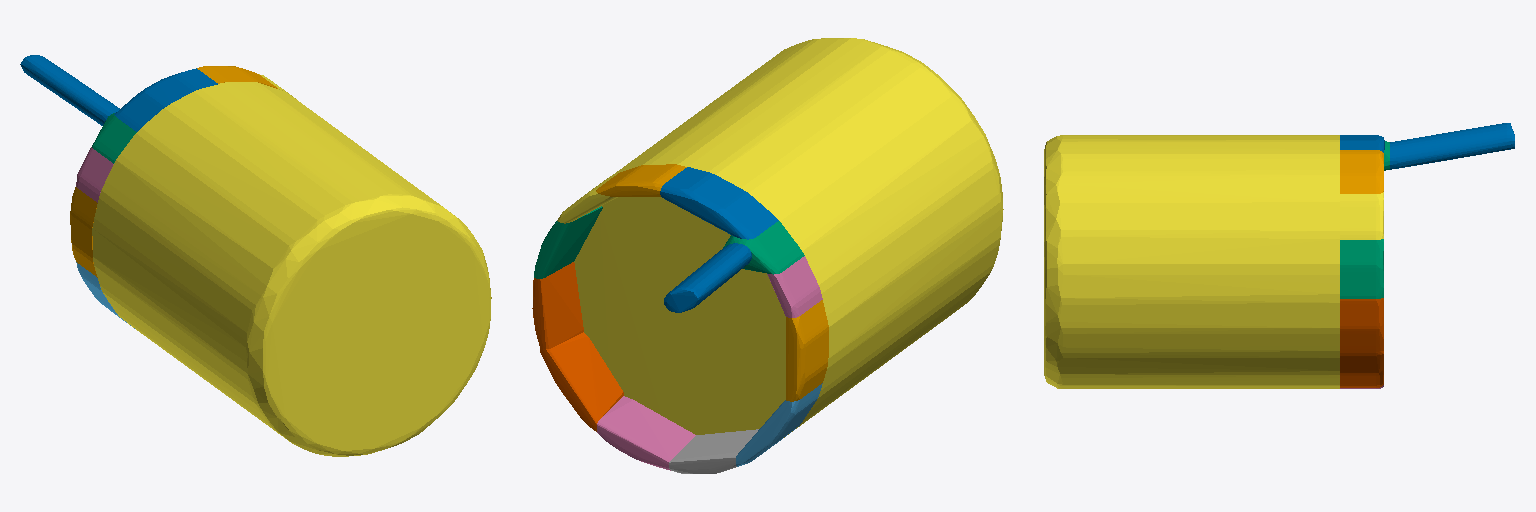
The robot description file, URDF, robot "root":
<robot name="root">
  <link name="link_convex_piece_012.obj">
    <inertial>
      <origin xyz="0 0 0" rpy="0 0 0"/>
    </inertial>
    <visual>
      <origin xyz="0 0 0" rpy="0 0 0"/>
      <geometry>
        <mesh filename="meshes/convex_piece_012.obj" scale="1.0 1.0 1.0"/>
      </geometry>
    </visual>
    <collision>
      <origin xyz="0 0 0" rpy="0 0 0"/>
      <geometry>
        <mesh filename="meshes/convex_piece_012.obj" scale="1.0 1.0 1.0"/>
      </geometry>
    </collision>
  </link>
  <link name="link_convex_piece_014.obj">
    <inertial>
      <origin xyz="0 0 0" rpy="0 0 0"/>
    </inertial>
    <visual>
      <origin xyz="0 0 0" rpy="0 0 0"/>
      <geometry>
        <mesh filename="meshes/convex_piece_014.obj" scale="1.0 1.0 1.0"/>
      </geometry>
    </visual>
    <collision>
      <origin xyz="0 0 0" rpy="0 0 0"/>
      <geometry>
        <mesh filename="meshes/convex_piece_014.obj" scale="1.0 1.0 1.0"/>
      </geometry>
    </collision>
  </link>
  <joint name="link_convex_piece_014.obj_joint" type="fixed">
    <origin xyz="0 0 0" rpy="0 0 0"/>
    <parent link="link_convex_piece_012.obj"/>
    <child link="link_convex_piece_014.obj"/>
  </joint>
  <link name="link_convex_piece_004.obj">
    <inertial>
      <origin xyz="0 0 0" rpy="0 0 0"/>
    </inertial>
    <visual>
      <origin xyz="0 0 0" rpy="0 0 0"/>
      <geometry>
        <mesh filename="meshes/convex_piece_004.obj" scale="1.0 1.0 1.0"/>
      </geometry>
    </visual>
    <collision>
      <origin xyz="0 0 0" rpy="0 0 0"/>
      <geometry>
        <mesh filename="meshes/convex_piece_004.obj" scale="1.0 1.0 1.0"/>
      </geometry>
    </collision>
  </link>
  <joint name="link_convex_piece_004.obj_joint" type="fixed">
    <origin xyz="0 0 0" rpy="0 0 0"/>
    <parent link="link_convex_piece_014.obj"/>
    <child link="link_convex_piece_004.obj"/>
  </joint>
  <link name="link_convex_piece_001.obj">
    <inertial>
      <origin xyz="0 0 0" rpy="0 0 0"/>
    </inertial>
    <visual>
      <origin xyz="0 0 0" rpy="0 0 0"/>
      <geometry>
        <mesh filename="meshes/convex_piece_001.obj" scale="1.0 1.0 1.0"/>
      </geometry>
    </visual>
    <collision>
      <origin xyz="0 0 0" rpy="0 0 0"/>
      <geometry>
        <mesh filename="meshes/convex_piece_001.obj" scale="1.0 1.0 1.0"/>
      </geometry>
    </collision>
  </link>
  <joint name="link_convex_piece_001.obj_joint" type="fixed">
    <origin xyz="0 0 0" rpy="0 0 0"/>
    <parent link="link_convex_piece_004.obj"/>
    <child link="link_convex_piece_001.obj"/>
  </joint>
  <link name="link_convex_piece_005.obj">
    <inertial>
      <origin xyz="0 0 0" rpy="0 0 0"/>
    </inertial>
    <visual>
      <origin xyz="0 0 0" rpy="0 0 0"/>
      <geometry>
        <mesh filename="meshes/convex_piece_005.obj" scale="1.0 1.0 1.0"/>
      </geometry>
    </visual>
    <collision>
      <origin xyz="0 0 0" rpy="0 0 0"/>
      <geometry>
        <mesh filename="meshes/convex_piece_005.obj" scale="1.0 1.0 1.0"/>
      </geometry>
    </collision>
  </link>
  <joint name="link_convex_piece_005.obj_joint" type="fixed">
    <origin xyz="0 0 0" rpy="0 0 0"/>
    <parent link="link_convex_piece_001.obj"/>
    <child link="link_convex_piece_005.obj"/>
  </joint>
  <link name="link_convex_piece_013.obj">
    <inertial>
      <origin xyz="0 0 0" rpy="0 0 0"/>
    </inertial>
    <visual>
      <origin xyz="0 0 0" rpy="0 0 0"/>
      <geometry>
        <mesh filename="meshes/convex_piece_013.obj" scale="1.0 1.0 1.0"/>
      </geometry>
    </visual>
    <collision>
      <origin xyz="0 0 0" rpy="0 0 0"/>
      <geometry>
        <mesh filename="meshes/convex_piece_013.obj" scale="1.0 1.0 1.0"/>
      </geometry>
    </collision>
  </link>
  <joint name="link_convex_piece_013.obj_joint" type="fixed">
    <origin xyz="0 0 0" rpy="0 0 0"/>
    <parent link="link_convex_piece_005.obj"/>
    <child link="link_convex_piece_013.obj"/>
  </joint>
  <link name="link_convex_piece_002.obj">
    <inertial>
      <origin xyz="0 0 0" rpy="0 0 0"/>
    </inertial>
    <visual>
      <origin xyz="0 0 0" rpy="0 0 0"/>
      <geometry>
        <mesh filename="meshes/convex_piece_002.obj" scale="1.0 1.0 1.0"/>
      </geometry>
    </visual>
    <collision>
      <origin xyz="0 0 0" rpy="0 0 0"/>
      <geometry>
        <mesh filename="meshes/convex_piece_002.obj" scale="1.0 1.0 1.0"/>
      </geometry>
    </collision>
  </link>
  <joint name="link_convex_piece_002.obj_joint" type="fixed">
    <origin xyz="0 0 0" rpy="0 0 0"/>
    <parent link="link_convex_piece_013.obj"/>
    <child link="link_convex_piece_002.obj"/>
  </joint>
  <link name="link_convex_piece_010.obj">
    <inertial>
      <origin xyz="0 0 0" rpy="0 0 0"/>
    </inertial>
    <visual>
      <origin xyz="0 0 0" rpy="0 0 0"/>
      <geometry>
        <mesh filename="meshes/convex_piece_010.obj" scale="1.0 1.0 1.0"/>
      </geometry>
    </visual>
    <collision>
      <origin xyz="0 0 0" rpy="0 0 0"/>
      <geometry>
        <mesh filename="meshes/convex_piece_010.obj" scale="1.0 1.0 1.0"/>
      </geometry>
    </collision>
  </link>
  <joint name="link_convex_piece_010.obj_joint" type="fixed">
    <origin xyz="0 0 0" rpy="0 0 0"/>
    <parent link="link_convex_piece_002.obj"/>
    <child link="link_convex_piece_010.obj"/>
  </joint>
  <link name="link_convex_piece_006.obj">
    <inertial>
      <origin xyz="0 0 0" rpy="0 0 0"/>
    </inertial>
    <visual>
      <origin xyz="0 0 0" rpy="0 0 0"/>
      <geometry>
        <mesh filename="meshes/convex_piece_006.obj" scale="1.0 1.0 1.0"/>
      </geometry>
    </visual>
    <collision>
      <origin xyz="0 0 0" rpy="0 0 0"/>
      <geometry>
        <mesh filename="meshes/convex_piece_006.obj" scale="1.0 1.0 1.0"/>
      </geometry>
    </collision>
  </link>
  <joint name="link_convex_piece_006.obj_joint" type="fixed">
    <origin xyz="0 0 0" rpy="0 0 0"/>
    <parent link="link_convex_piece_010.obj"/>
    <child link="link_convex_piece_006.obj"/>
  </joint>
  <link name="link_convex_piece_003.obj">
    <inertial>
      <origin xyz="0 0 0" rpy="0 0 0"/>
    </inertial>
    <visual>
      <origin xyz="0 0 0" rpy="0 0 0"/>
      <geometry>
        <mesh filename="meshes/convex_piece_003.obj" scale="1.0 1.0 1.0"/>
      </geometry>
    </visual>
    <collision>
      <origin xyz="0 0 0" rpy="0 0 0"/>
      <geometry>
        <mesh filename="meshes/convex_piece_003.obj" scale="1.0 1.0 1.0"/>
      </geometry>
    </collision>
  </link>
  <joint name="link_convex_piece_003.obj_joint" type="fixed">
    <origin xyz="0 0 0" rpy="0 0 0"/>
    <parent link="link_convex_piece_006.obj"/>
    <child link="link_convex_piece_003.obj"/>
  </joint>
  <link name="link_convex_piece_008.obj">
    <inertial>
      <origin xyz="0 0 0" rpy="0 0 0"/>
    </inertial>
    <visual>
      <origin xyz="0 0 0" rpy="0 0 0"/>
      <geometry>
        <mesh filename="meshes/convex_piece_008.obj" scale="1.0 1.0 1.0"/>
      </geometry>
    </visual>
    <collision>
      <origin xyz="0 0 0" rpy="0 0 0"/>
      <geometry>
        <mesh filename="meshes/convex_piece_008.obj" scale="1.0 1.0 1.0"/>
      </geometry>
    </collision>
  </link>
  <joint name="link_convex_piece_008.obj_joint" type="fixed">
    <origin xyz="0 0 0" rpy="0 0 0"/>
    <parent link="link_convex_piece_003.obj"/>
    <child link="link_convex_piece_008.obj"/>
  </joint>
  <link name="link_convex_piece_011.obj">
    <inertial>
      <origin xyz="0 0 0" rpy="0 0 0"/>
    </inertial>
    <visual>
      <origin xyz="0 0 0" rpy="0 0 0"/>
      <geometry>
        <mesh filename="meshes/convex_piece_011.obj" scale="1.0 1.0 1.0"/>
      </geometry>
    </visual>
    <collision>
      <origin xyz="0 0 0" rpy="0 0 0"/>
      <geometry>
        <mesh filename="meshes/convex_piece_011.obj" scale="1.0 1.0 1.0"/>
      </geometry>
    </collision>
  </link>
  <joint name="link_convex_piece_011.obj_joint" type="fixed">
    <origin xyz="0 0 0" rpy="0 0 0"/>
    <parent link="link_convex_piece_008.obj"/>
    <child link="link_convex_piece_011.obj"/>
  </joint>
  <link name="link_convex_piece_000.obj">
    <inertial>
      <origin xyz="0 0 0" rpy="0 0 0"/>
    </inertial>
    <visual>
      <origin xyz="0 0 0" rpy="0 0 0"/>
      <geometry>
        <mesh filename="meshes/convex_piece_000.obj" scale="1.0 1.0 1.0"/>
      </geometry>
    </visual>
    <collision>
      <origin xyz="0 0 0" rpy="0 0 0"/>
      <geometry>
        <mesh filename="meshes/convex_piece_000.obj" scale="1.0 1.0 1.0"/>
      </geometry>
    </collision>
  </link>
  <joint name="link_convex_piece_000.obj_joint" type="fixed">
    <origin xyz="0 0 0" rpy="0 0 0"/>
    <parent link="link_convex_piece_011.obj"/>
    <child link="link_convex_piece_000.obj"/>
  </joint>
  <link name="link_convex_piece_009.obj">
    <inertial>
      <origin xyz="0 0 0" rpy="0 0 0"/>
    </inertial>
    <visual>
      <origin xyz="0 0 0" rpy="0 0 0"/>
      <geometry>
        <mesh filename="meshes/convex_piece_009.obj" scale="1.0 1.0 1.0"/>
      </geometry>
    </visual>
    <collision>
      <origin xyz="0 0 0" rpy="0 0 0"/>
      <geometry>
        <mesh filename="meshes/convex_piece_009.obj" scale="1.0 1.0 1.0"/>
      </geometry>
    </collision>
  </link>
  <joint name="link_convex_piece_009.obj_joint" type="fixed">
    <origin xyz="0 0 0" rpy="0 0 0"/>
    <parent link="link_convex_piece_000.obj"/>
    <child link="link_convex_piece_009.obj"/>
  </joint>
  <link name="link_convex_piece_007.obj">
    <inertial>
      <origin xyz="0 0 0" rpy="0 0 0"/>
    </inertial>
    <visual>
      <origin xyz="0 0 0" rpy="0 0 0"/>
      <geometry>
        <mesh filename="meshes/convex_piece_007.obj" scale="1.0 1.0 1.0"/>
      </geometry>
    </visual>
    <collision>
      <origin xyz="0 0 0" rpy="0 0 0"/>
      <geometry>
        <mesh filename="meshes/convex_piece_007.obj" scale="1.0 1.0 1.0"/>
      </geometry>
    </collision>
  </link>
  <joint name="link_convex_piece_007.obj_joint" type="fixed">
    <origin xyz="0 0 0" rpy="0 0 0"/>
    <parent link="link_convex_piece_009.obj"/>
    <child link="link_convex_piece_007.obj"/>
  </joint>
</robot>

--- Facts derived from the render (not from the file) ---
Views: 3 orthographic renders of the robot side by side, from view 1: azimuth 30°, elevation 25°; view 2: azimuth 150°, elevation 25°; view 3: azimuth 270°, elevation 25°.
Model root with 15 links and 14 joints (14 fixed), rooted at link_convex_piece_012.obj, posed every joint at zero.
Links seen in each view (by area): view 1: link_convex_piece_001.obj, link_convex_piece_000.obj, link_convex_piece_005.obj, link_convex_piece_012.obj, link_convex_piece_004.obj, link_convex_piece_002.obj, link_convex_piece_006.obj; view 2: link_convex_piece_001.obj, link_convex_piece_005.obj, link_convex_piece_013.obj, link_convex_piece_007.obj, link_convex_piece_012.obj, link_convex_piece_009.obj, link_convex_piece_000.obj, link_convex_piece_010.obj, link_convex_piece_008.obj, link_convex_piece_014.obj, link_convex_piece_004.obj, link_convex_piece_002.obj (+2 smaller); view 3: link_convex_piece_001.obj, link_convex_piece_000.obj, link_convex_piece_008.obj, link_convex_piece_009.obj, link_convex_piece_011.obj, link_convex_piece_006.obj, link_convex_piece_013.obj, link_convex_piece_005.obj.
Boxes of the visible links, x1,y1,x2,y2 form: link_convex_piece_001.obj: [92, 82, 491, 456]; link_convex_piece_000.obj: [20, 55, 119, 125]; link_convex_piece_005.obj: [114, 68, 217, 131]; link_convex_piece_012.obj: [70, 187, 97, 277]; link_convex_piece_004.obj: [92, 113, 136, 163]; link_convex_piece_002.obj: [76, 147, 113, 202]; link_convex_piece_006.obj: [197, 66, 277, 88]; link_convex_piece_001.obj: [574, 38, 1003, 437]; link_convex_piece_005.obj: [660, 167, 778, 239]; link_convex_piece_013.obj: [540, 332, 623, 431]; link_convex_piece_007.obj: [597, 396, 695, 470]; link_convex_piece_012.obj: [786, 300, 828, 401]; link_convex_piece_009.obj: [532, 262, 583, 348]; link_convex_piece_000.obj: [664, 243, 751, 312]; link_convex_piece_010.obj: [669, 429, 758, 473]; link_convex_piece_008.obj: [534, 206, 602, 278]; link_convex_piece_014.obj: [736, 383, 822, 466]; link_convex_piece_004.obj: [723, 221, 804, 274]; link_convex_piece_002.obj: [767, 256, 822, 317]; link_convex_piece_001.obj: [1044, 135, 1339, 388]; link_convex_piece_000.obj: [1390, 123, 1514, 169]; link_convex_piece_008.obj: [1340, 239, 1383, 298]; link_convex_piece_009.obj: [1340, 298, 1383, 351]; link_convex_piece_011.obj: [1340, 192, 1383, 239]; link_convex_piece_006.obj: [1340, 150, 1383, 193]; link_convex_piece_013.obj: [1340, 351, 1383, 387]; link_convex_piece_005.obj: [1340, 135, 1384, 152].
Bounding box of the posed robot: 0.8661 × 1.61 × 0.8661 m (x, y, z).
15 mesh visuals loaded from 15 distinct referenced files (15 OBJ).
